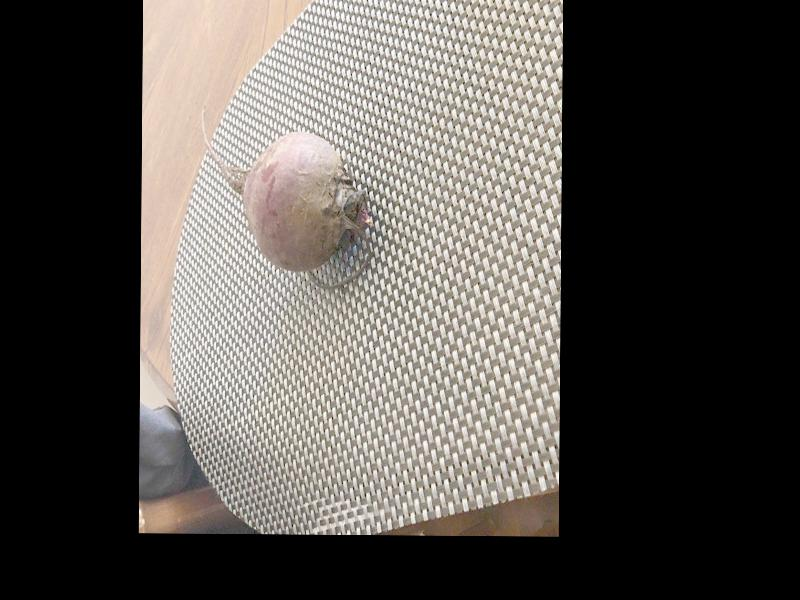Beet: (200, 107, 373, 291)
